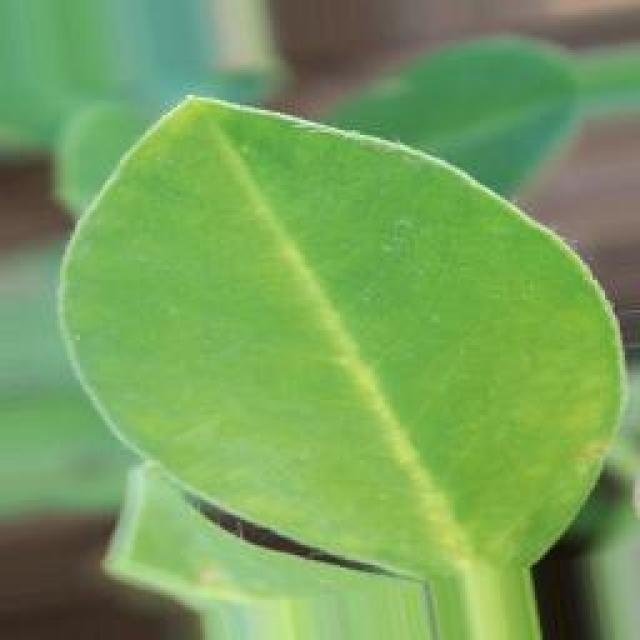Yellow_and_black_sigatoka: (53, 89, 640, 568)
